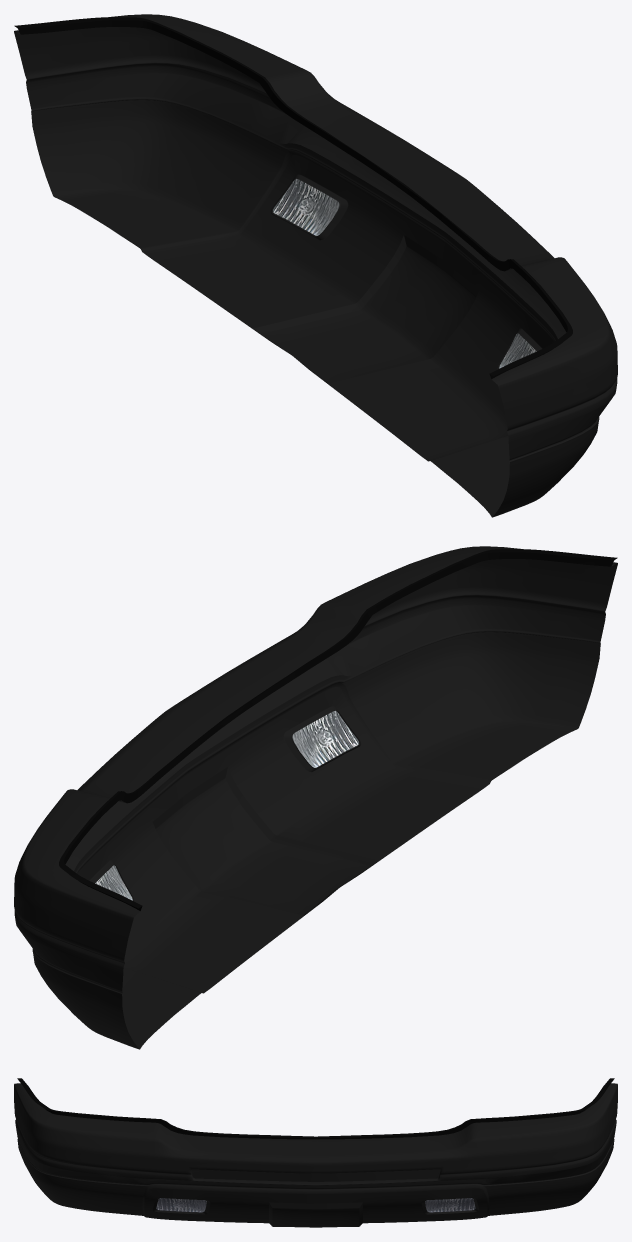
The picture shows the model from 3 angles, top to bottom: view 1: azimuth 30°, elevation 25°; view 2: azimuth 150°, elevation 25°; view 3: azimuth 270°, elevation 25°; orthographic projection. The views are drawn at different scales.
Parts seen in each view (by area): view 1: U803_3A_021G_C_U803_3A_021G_C_1_D, U803_3A_021G_C_3_D_U803_3A_021G_C, U803_3A_021G_C_U803_3A_021G_C_2_N; view 2: U803_3A_021G_C_U803_3A_021G_C_1_D, U803_3A_021G_C_3_D_U803_3A_021G_C, U803_3A_021G_C_U803_3A_021G_C_2_N; view 3: U803_3A_021G_C_U803_3A_021G_C_1_D, U803_3A_021G_C_3_D_U803_3A_021G_C, U803_3A_021G_C_U803_3A_021G_C_2_N, U803_3A_021G_C_U803_3A_021G_C_5_DTaSI, U803_3A_021G_C_U803_3A_021G_C_4_DTaSI.
Part boxes in pixels (box(x1,y1,x2,y2)): U803_3A_021G_C_U803_3A_021G_C_1_D: box(14, 14, 617, 517); U803_3A_021G_C_3_D_U803_3A_021G_C: box(14, 17, 572, 378); U803_3A_021G_C_U803_3A_021G_C_2_N: box(273, 178, 536, 368); U803_3A_021G_C_U803_3A_021G_C_1_D: box(14, 546, 617, 1049); U803_3A_021G_C_3_D_U803_3A_021G_C: box(59, 549, 617, 910); U803_3A_021G_C_U803_3A_021G_C_2_N: box(95, 710, 358, 900); U803_3A_021G_C_U803_3A_021G_C_1_D: box(14, 1083, 617, 1227); U803_3A_021G_C_3_D_U803_3A_021G_C: box(17, 1078, 614, 1139); U803_3A_021G_C_U803_3A_021G_C_2_N: box(156, 1198, 475, 1212); U803_3A_021G_C_U803_3A_021G_C_5_DTaSI: box(156, 1198, 206, 1212); U803_3A_021G_C_U803_3A_021G_C_4_DTaSI: box(425, 1198, 475, 1212).
Size of the model in its own units: 44.92 by 33.81 by 175.
